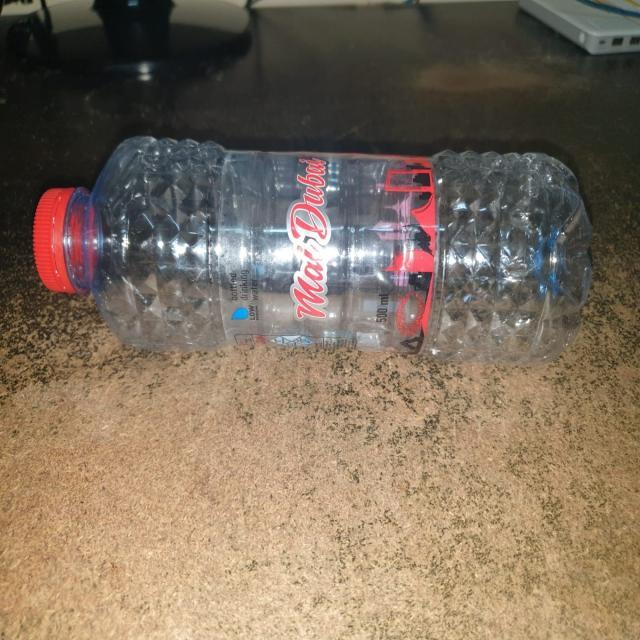chai: (34, 136, 591, 361)
